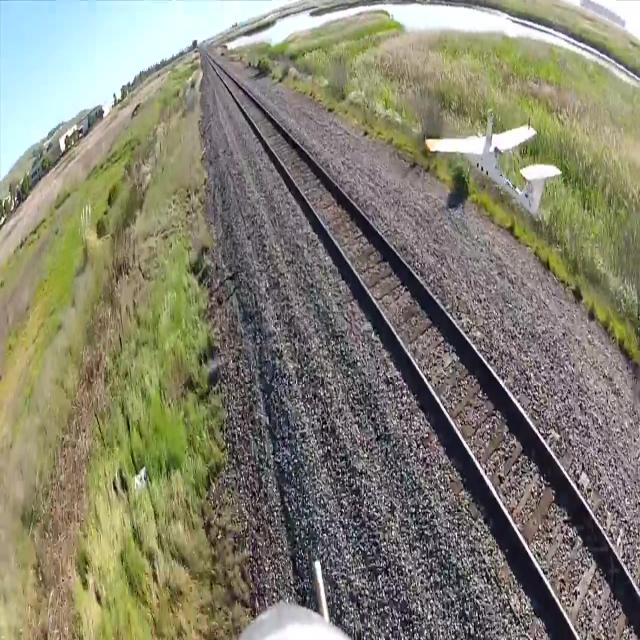iha: (421, 138, 565, 190)
